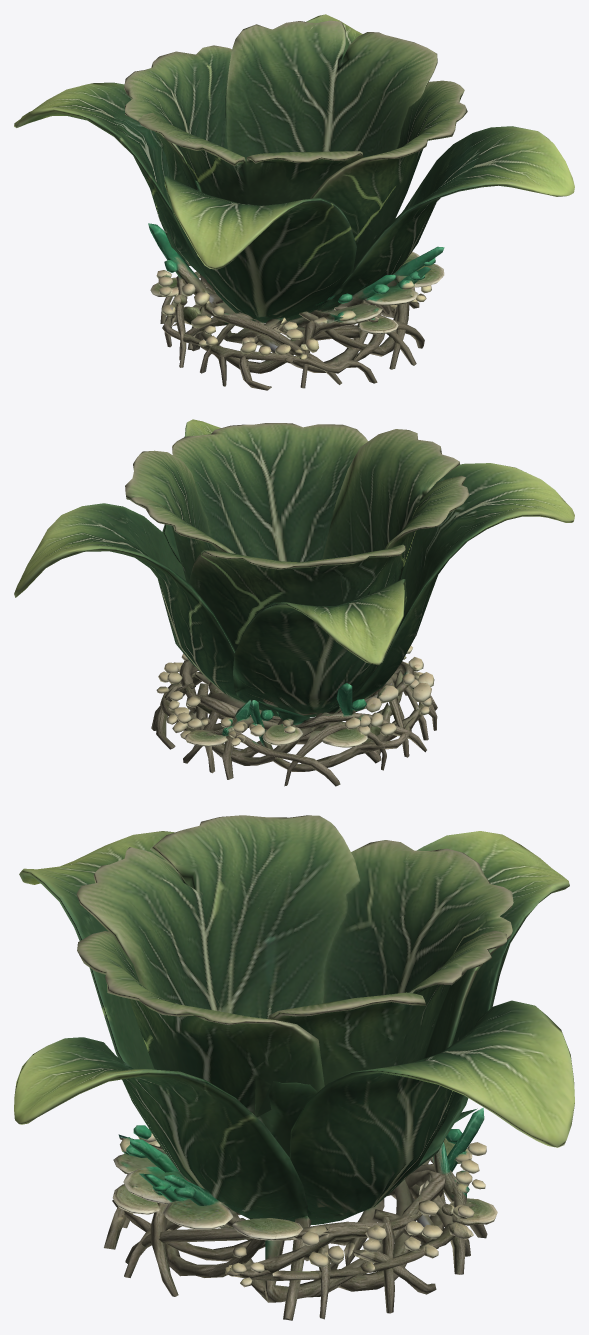
File: mana-well-green.glb
3 renders of one model, top to bottom at view 1: azimuth 30°, elevation 25°; view 2: azimuth 150°, elevation 25°; view 3: azimuth 270°, elevation 25°, orthographic. The views are drawn at different scales.
Bounding box in the file's own units: 1 × 0.6558 × 0.9912.
Materials: 1 (1 with a texture image).
